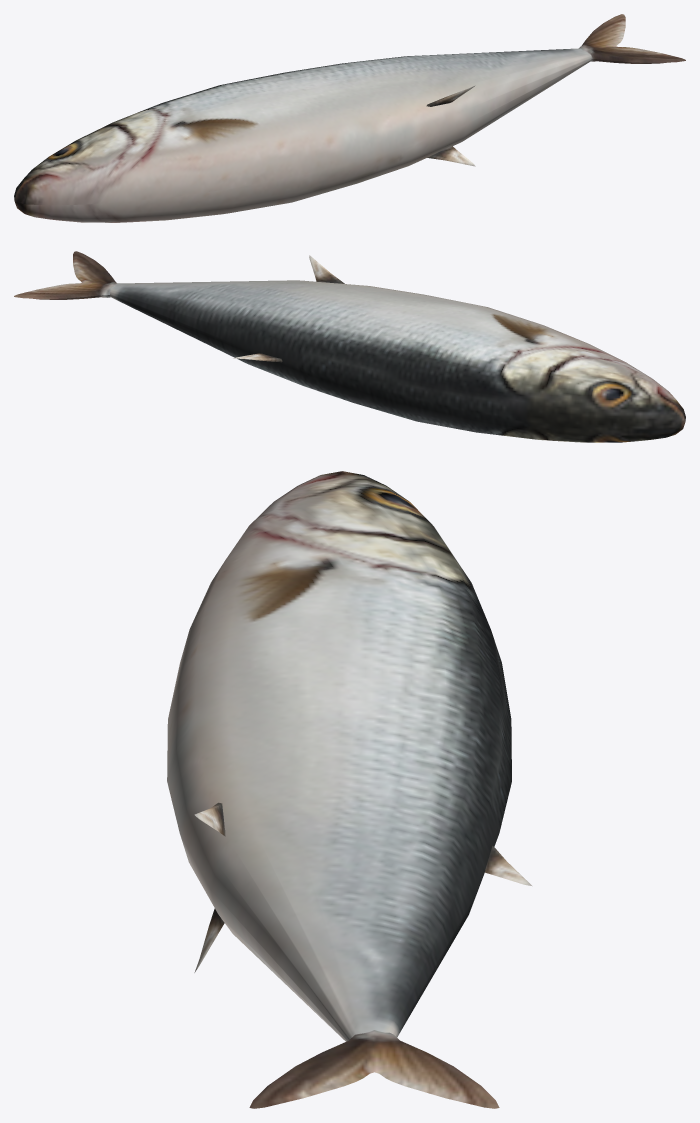
Rendered from Fish.fbx.
The picture shows the model from 3 angles, top to bottom: view 1: azimuth 30°, elevation 25°; view 2: azimuth 150°, elevation 25°; view 3: azimuth 270°, elevation 25°; orthographic projection. The views are drawn at different scales.
Parts seen in each view (by area): view 1: Fish; view 2: Fish; view 3: Fish.
Boxes of the visible parts, x1=… form: Fish: x1=14, y1=14, x2=685, y2=222; Fish: x1=14, y1=251, x2=685, y2=442; Fish: x1=167, y1=471, x2=532, y2=1108.
Size of the model in its own units: 34.4 by 4.6 by 8.61.
